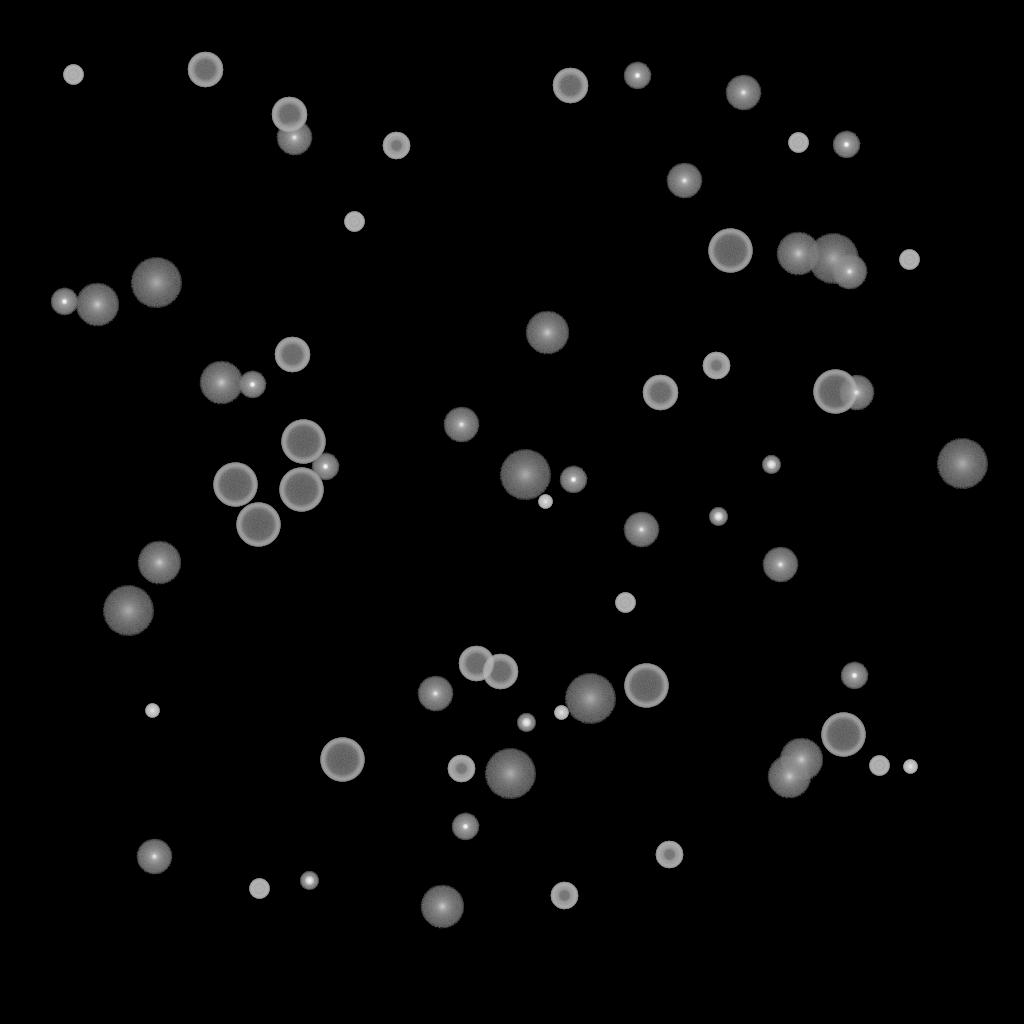depth:-10: (311, 453, 339, 481), (623, 62, 651, 90), (50, 288, 78, 316), (840, 662, 868, 690), (832, 131, 860, 159), (451, 813, 479, 841), (559, 466, 587, 494), (238, 371, 266, 399)
depth:-20: (517, 714, 535, 732), (709, 508, 727, 526), (762, 456, 780, 474), (300, 872, 318, 890)
depth:-30: (145, 704, 159, 718), (903, 760, 917, 774), (538, 495, 552, 509), (554, 706, 568, 720)
depth:-40: (63, 65, 83, 85), (344, 212, 364, 232), (788, 133, 808, 153), (615, 593, 635, 613), (249, 879, 269, 899), (869, 756, 889, 776), (899, 250, 919, 270)
depth:-50: (550, 882, 578, 910), (382, 132, 410, 160), (702, 352, 730, 380), (447, 755, 475, 783), (655, 841, 683, 869)
depth:-60: (552, 68, 588, 104), (458, 646, 494, 682), (482, 654, 518, 690), (274, 337, 310, 373), (642, 375, 678, 411), (187, 52, 223, 88), (271, 97, 307, 133)
depth:-70: (236, 503, 280, 547), (279, 468, 323, 512), (821, 713, 865, 757), (281, 420, 325, 464), (813, 370, 857, 414), (624, 664, 668, 708), (320, 738, 364, 782), (213, 463, 257, 507), (708, 229, 752, 273)
depth:0: (666, 163, 702, 199), (831, 254, 867, 290), (136, 839, 172, 875), (443, 407, 479, 443), (838, 375, 874, 411), (623, 512, 659, 548), (417, 676, 453, 712), (725, 75, 761, 111), (276, 120, 312, 156), (762, 547, 798, 583)
depth:10: (137, 541, 181, 585), (779, 738, 823, 782), (767, 755, 811, 799), (199, 361, 243, 405), (75, 283, 119, 327), (420, 885, 464, 929), (525, 311, 569, 355), (776, 232, 820, 276)
depth:20: (499, 450, 551, 500), (484, 749, 536, 799), (807, 234, 859, 284), (936, 439, 988, 489), (102, 586, 154, 636), (564, 674, 616, 724), (130, 258, 182, 308)
